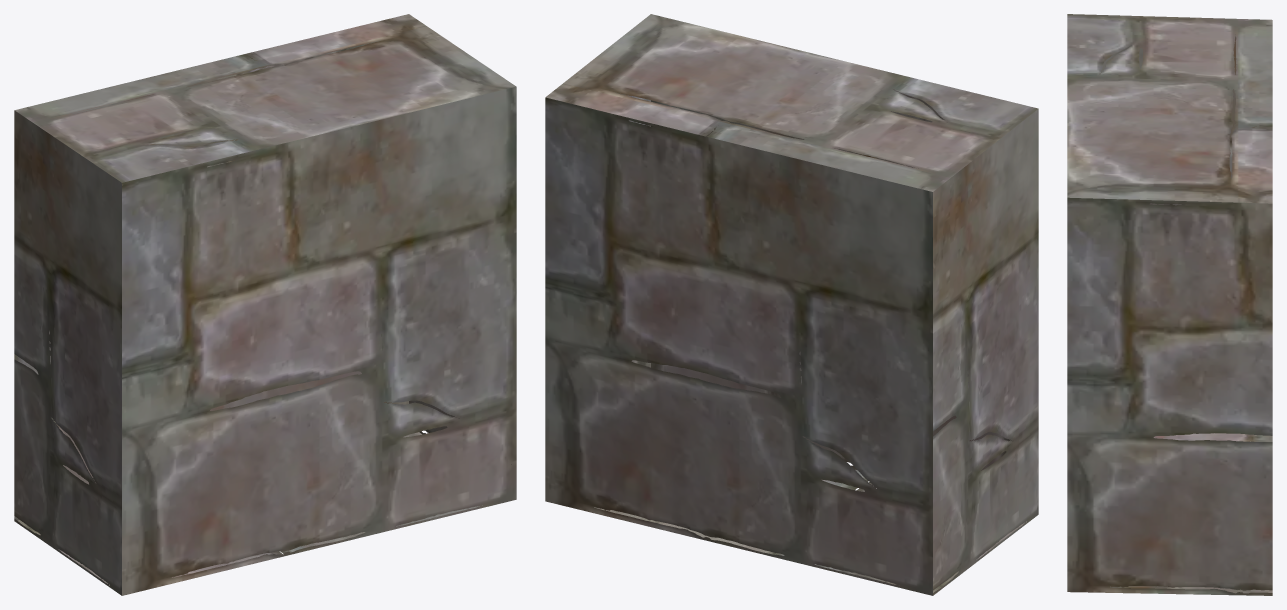
The picture shows the model from 3 angles, left to right: view 1: azimuth 30°, elevation 25°; view 2: azimuth 150°, elevation 25°; view 3: azimuth 270°, elevation 25°; orthographic projection. The views are drawn at different scales.
Visible parts, largest first — view 1: SM_BB_T3_Wall_Small_LOD0; view 2: SM_BB_T3_Wall_Small_LOD0; view 3: SM_BB_T3_Wall_Small_LOD0.
Boxes of the visible parts, left/top/right/bottom form: SM_BB_T3_Wall_Small_LOD0: left=14, top=14, right=516, bottom=595; SM_BB_T3_Wall_Small_LOD0: left=545, top=14, right=1038, bottom=595; SM_BB_T3_Wall_Small_LOD0: left=1067, top=14, right=1272, bottom=595.
Bounding box in the file's own units: 0.7419 × 0.7497 × 0.3505.
Materials: 1 (1 with a texture image).
